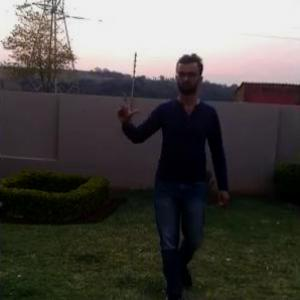land_hand: (114, 86, 141, 129)
